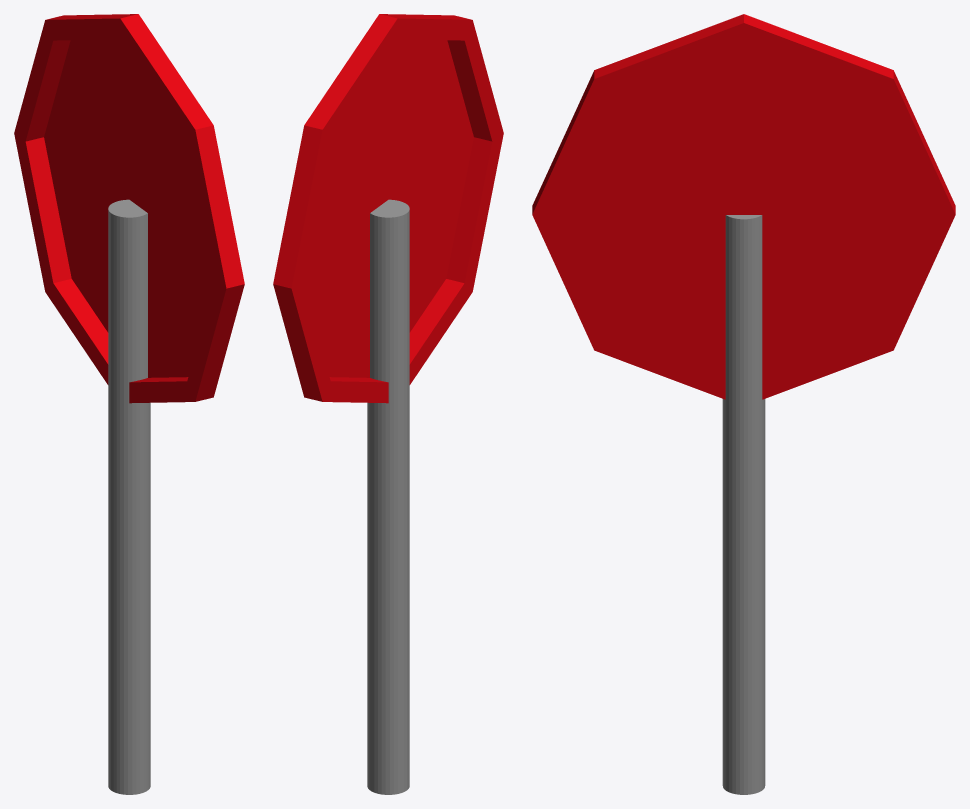
Rendered from StopSign.fbx.
The picture shows the model from 3 angles, left to right: view 1: azimuth 30°, elevation 25°; view 2: azimuth 150°, elevation 25°; view 3: azimuth 270°, elevation 25°; orthographic projection.
Parts seen in each view (by area): view 1: Cylinder.001, Cylinder; view 2: Cylinder.001, Cylinder; view 3: Cylinder.001, Cylinder.
Part boxes in pixels (<box>): Cylinder.001: <box>14,14,244,403</box>; Cylinder: <box>108,199,150,794</box>; Cylinder.001: <box>273,14,503,403</box>; Cylinder: <box>367,199,409,794</box>; Cylinder.001: <box>532,14,955,399</box>; Cylinder: <box>722,215,765,794</box>.
Size of the model in its own units: 20 by 400 by 200.
